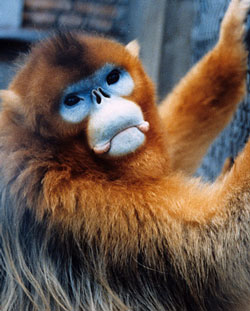GoldenSnub-Nosed: (21, 36, 210, 290)
